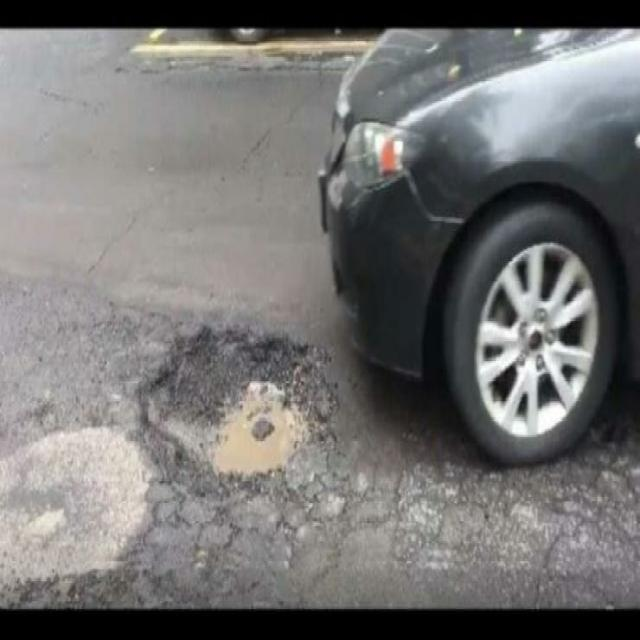Pothole: (130, 290, 330, 528)
